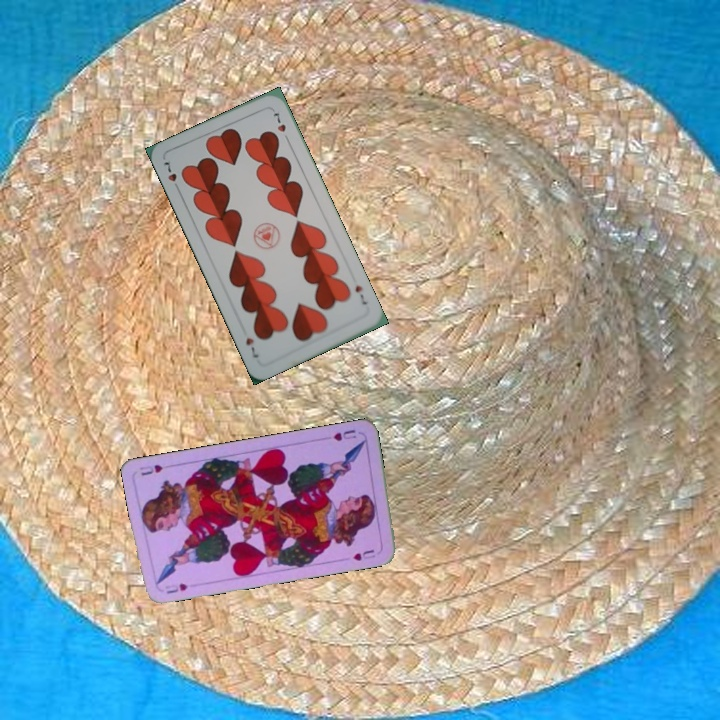H7: (160, 157, 183, 194), (351, 281, 371, 307)
HU: (329, 425, 358, 444), (161, 579, 190, 596)
